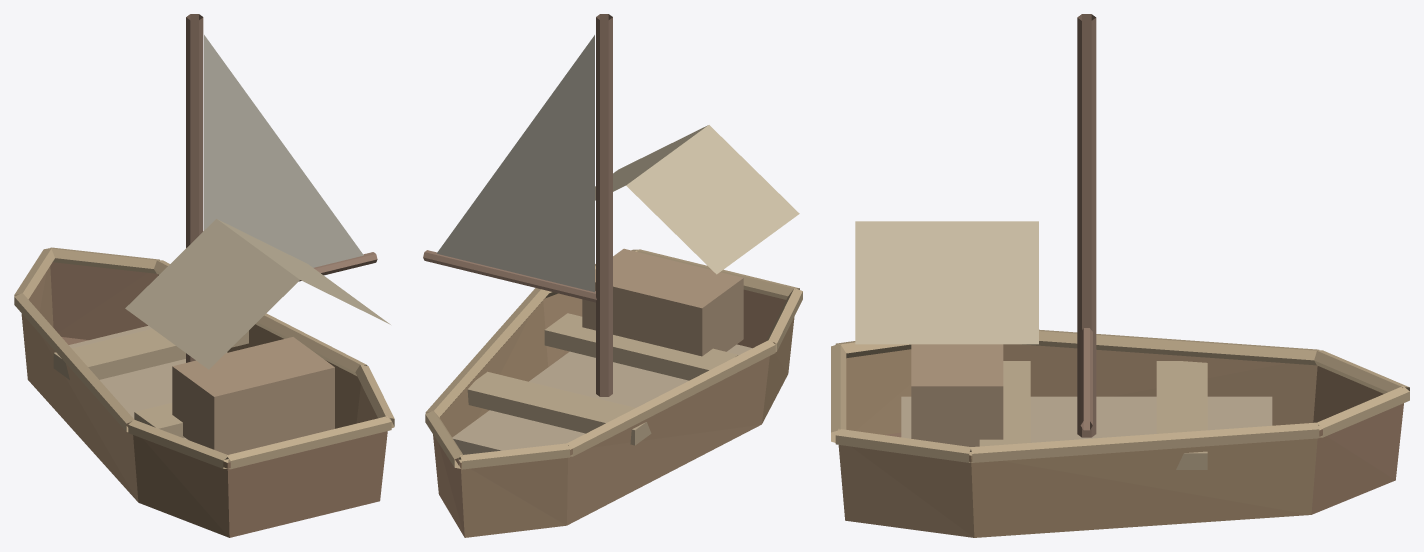
3 views of the same model, side by side, from view 1: azimuth 30°, elevation 25°; view 2: azimuth 150°, elevation 25°; view 3: azimuth 270°, elevation 25° (orthographic). The views are drawn at different scales.
Visible parts, largest first — view 1: H07; view 2: H07; view 3: H07.
Boxes of the visible parts, bbox=[...] form: H07: bbox=[14, 14, 394, 537]; H07: bbox=[423, 14, 802, 537]; H07: bbox=[831, 14, 1409, 537].
Bounding box in the file's own units: 1.12 × 1.5 × 1.7.
